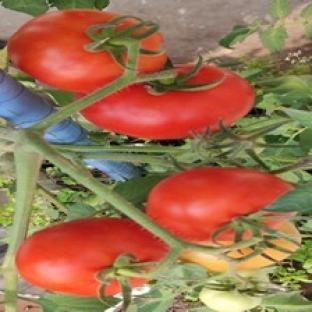Tomato: (81, 65, 253, 139), (16, 218, 168, 296), (147, 168, 293, 242), (9, 9, 123, 93), (180, 221, 300, 272), (200, 287, 261, 311)
